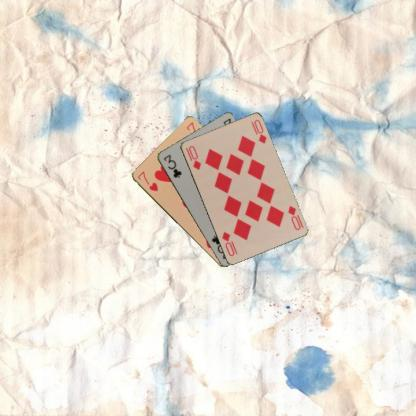10d: (183, 143, 202, 171), (284, 203, 302, 231)
3c: (160, 152, 182, 179)
7h: (135, 169, 159, 192)
